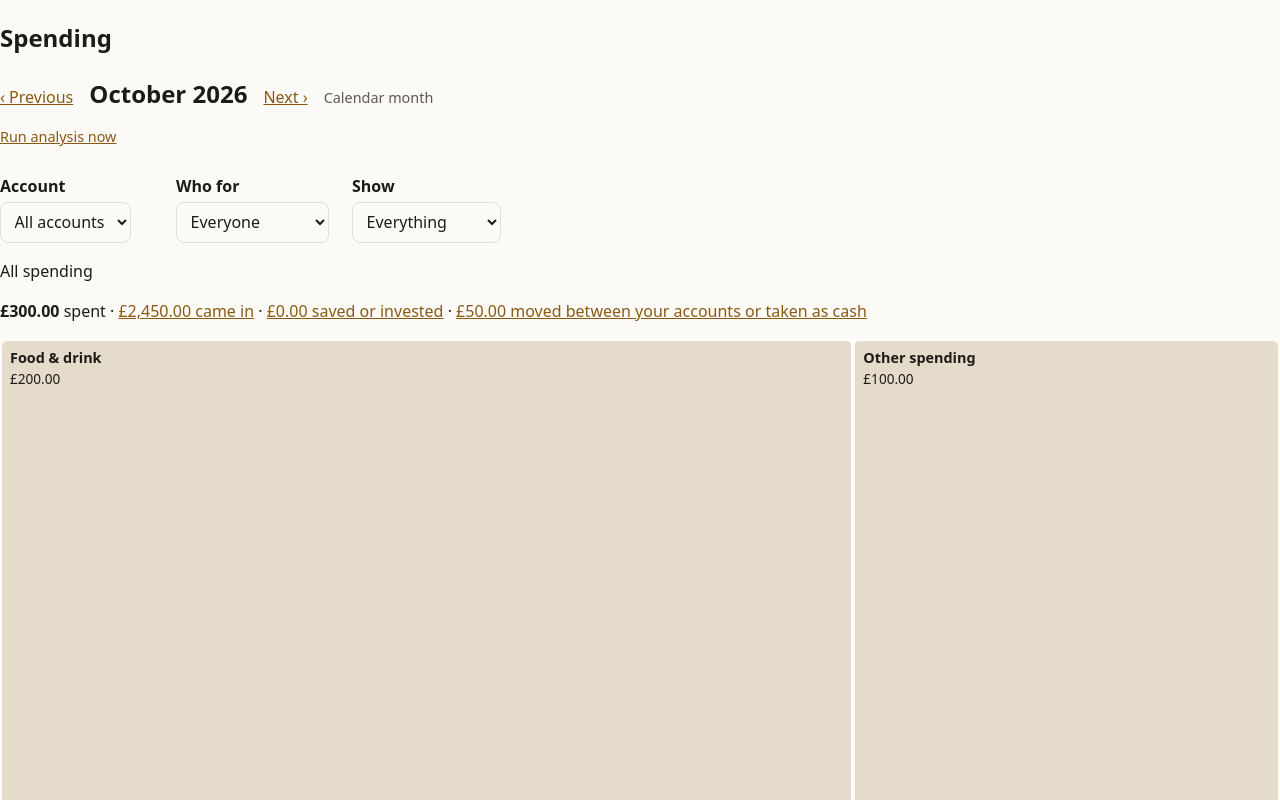
Test: after a failed "Not a transfer" it shows the message and reloads
Click the button "£50.00 moved between your accounts or taken as cash" at point(661, 311), box left=456, top=299, right=867, bottom=323
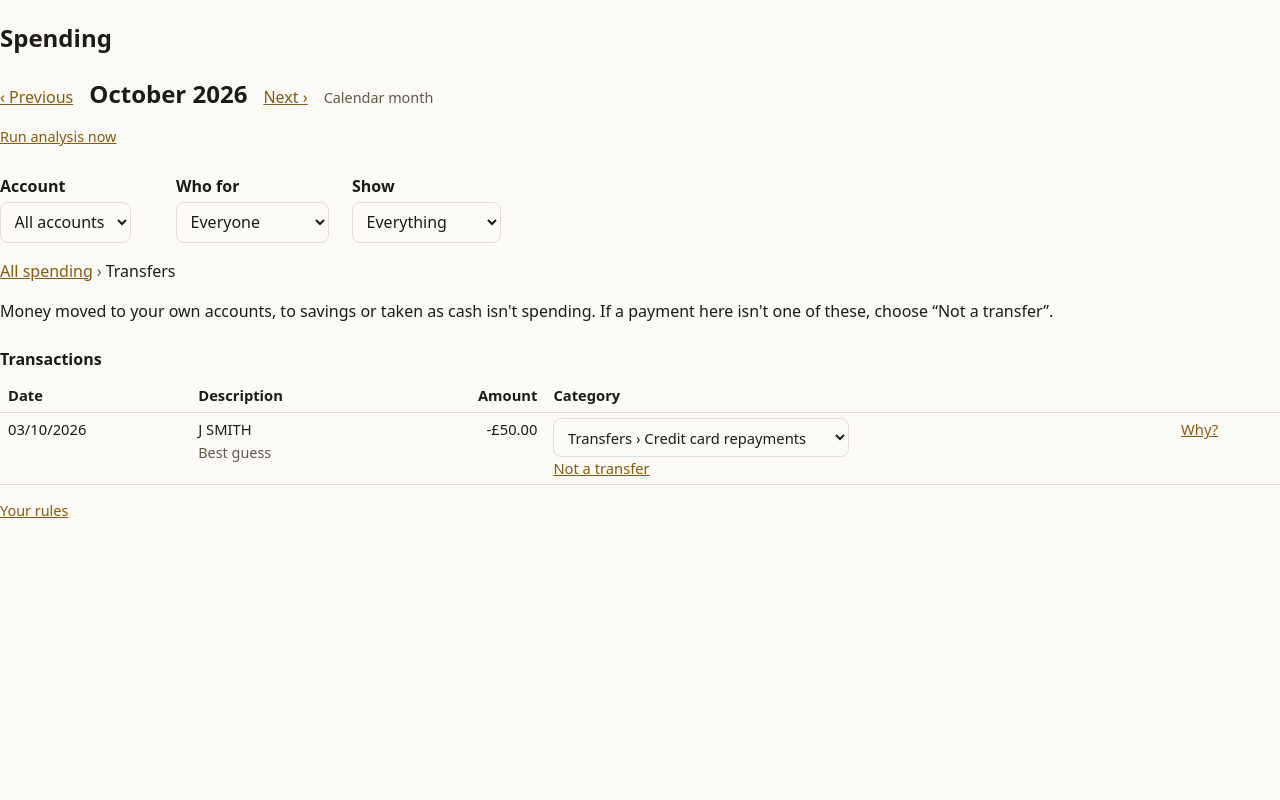
Expected: the button with aria-label "Not a transfer: J SMITH on 03/10/2026" is enabled
Click the button with aria-label "Not a transfer: J SMITH on 03/10/2026" at point(602, 468), box left=553, top=457, right=650, bottom=479
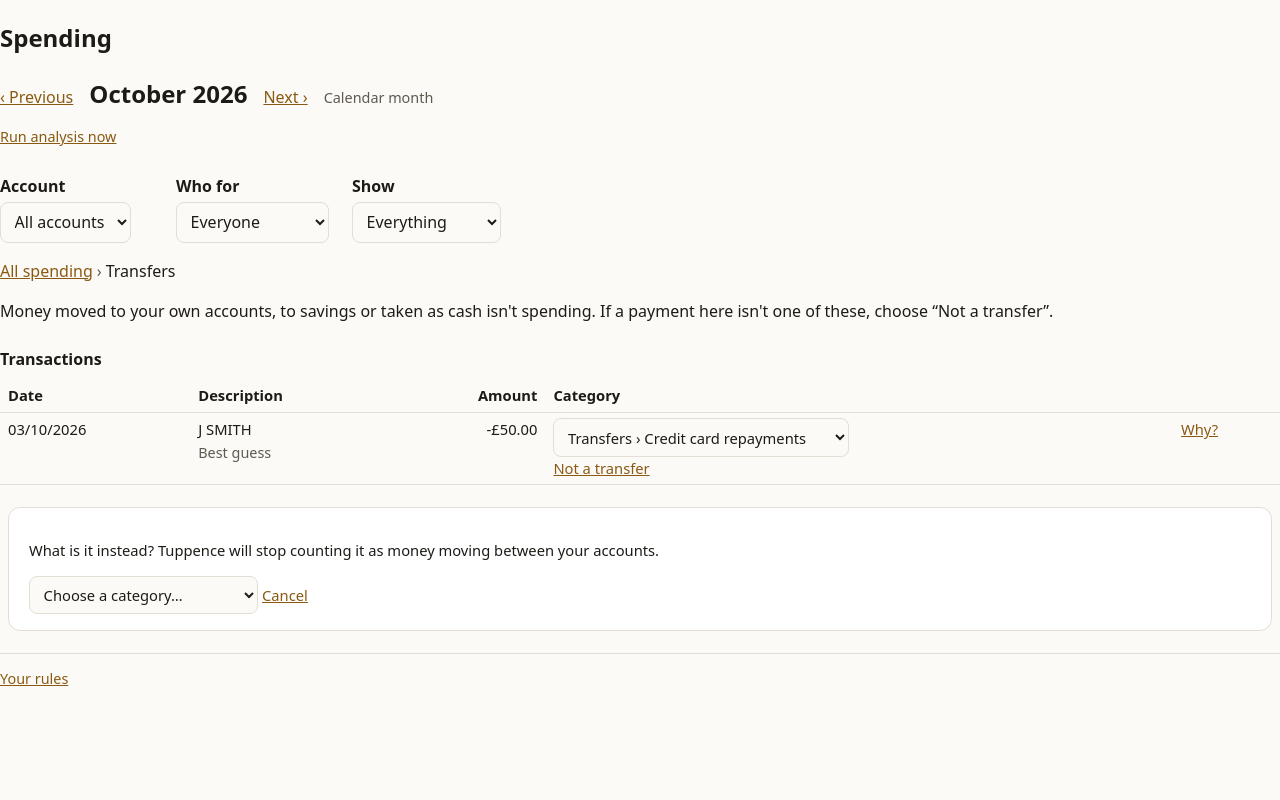
Select "Other spending" in the dropdown named "What is J SMITH on 03/10/2026 instead?" at point(144, 595), box left=29, top=576, right=258, bottom=614
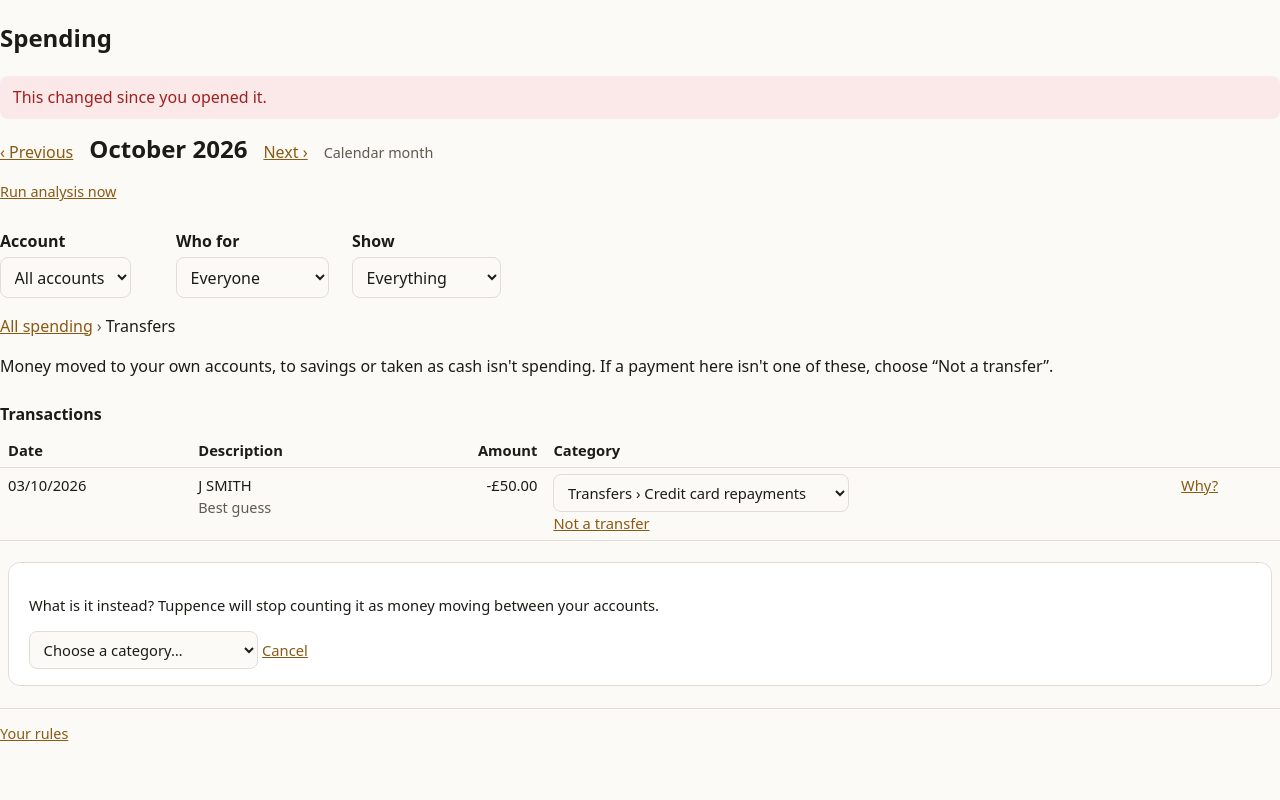
Expected: the text "This changed since you opened it." is shown, left=0, top=76, right=1279, bottom=119
